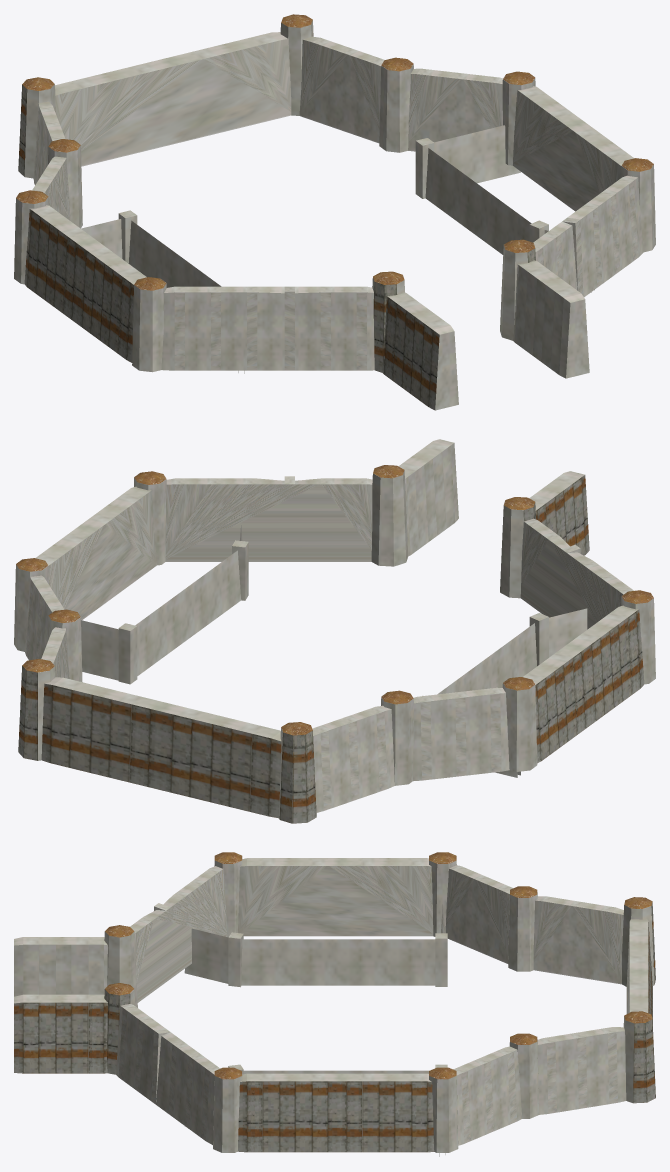
Rendered from poi_all_rebl_corral_64x64_s01_l1.fbx.
3 views of the same model, one above another, from view 1: azimuth 30°, elevation 25°; view 2: azimuth 150°, elevation 25°; view 3: azimuth 270°, elevation 25° (orthographic). The views are drawn at different scales.
Visible parts, largest first — view 1: mesh_node; view 2: mesh_node; view 3: mesh_node.
Boxes of the visible parts, x1,y1,x2,y2 form: mesh_node: (14, 14, 655, 410); mesh_node: (14, 439, 655, 823); mesh_node: (14, 852, 655, 1156).
Size of the model in its own units: 43.48 by 8.4 by 51.64.
